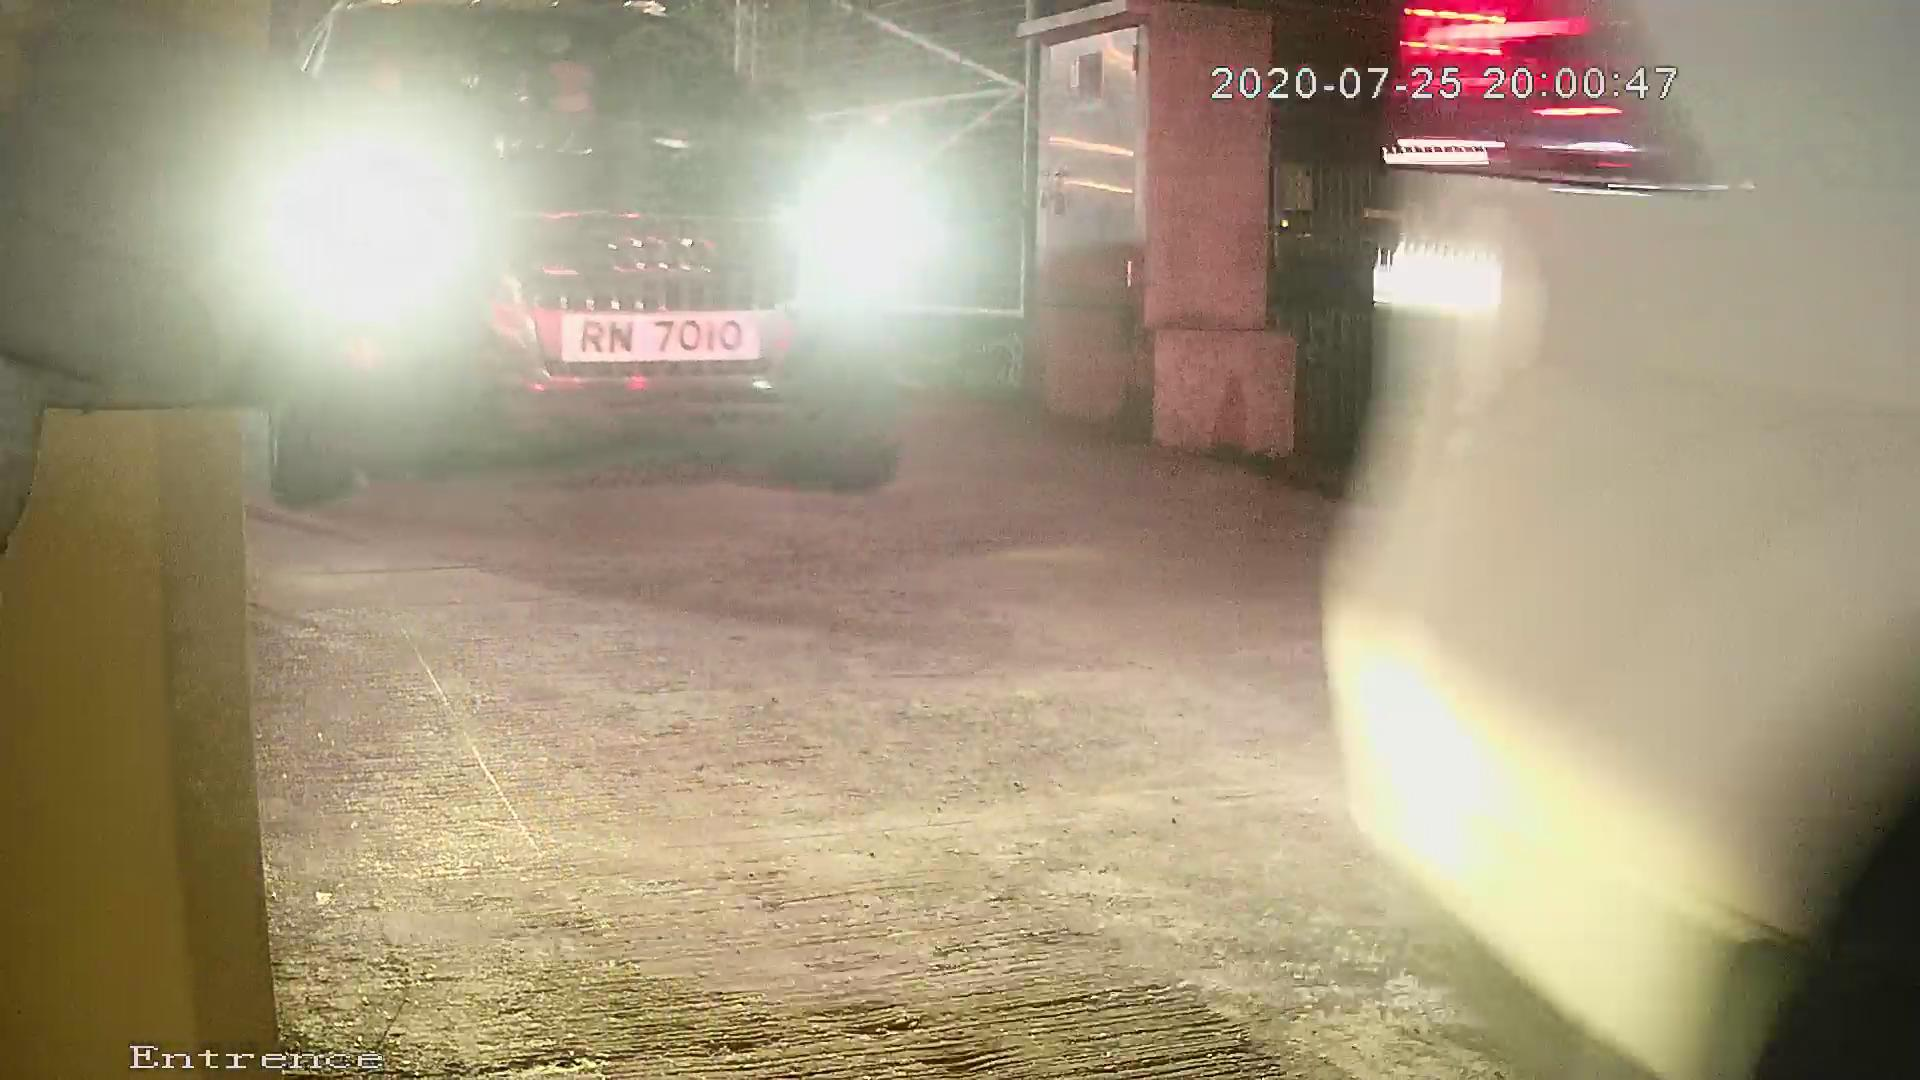License Plate: (544, 292, 798, 394)
